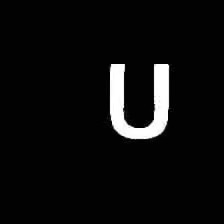LTR_U: (103, 55, 178, 145)
